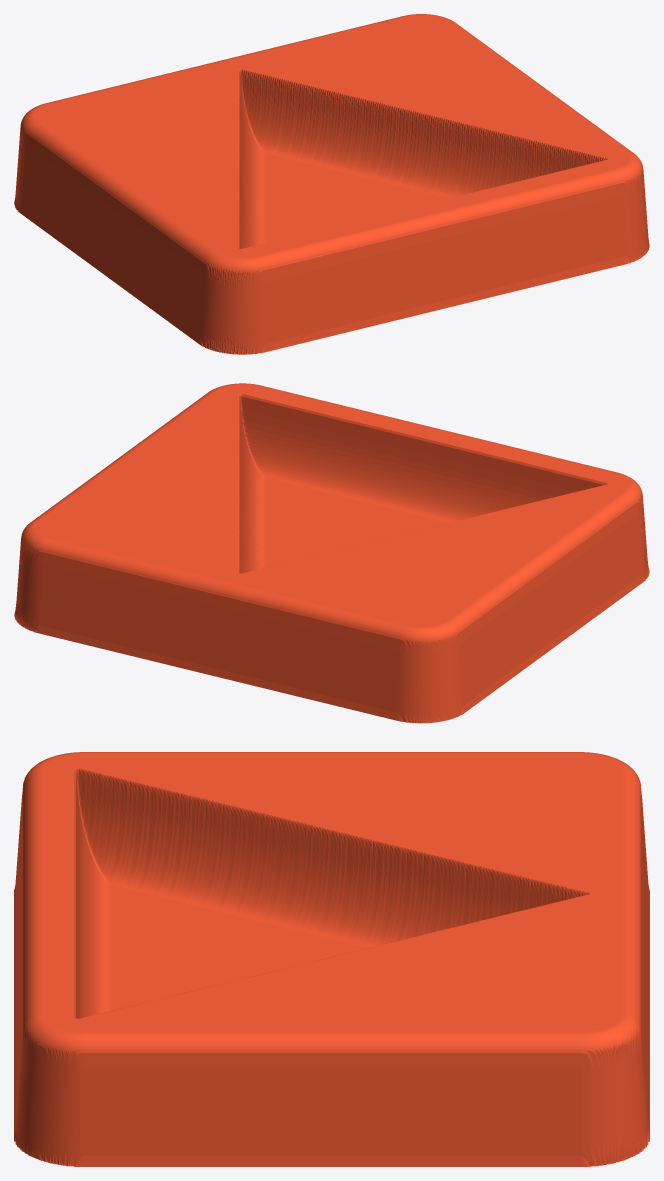
File: mold.glb
3 renders of one model, top to bottom at view 1: azimuth 30°, elevation 25°; view 2: azimuth 150°, elevation 25°; view 3: azimuth 270°, elevation 25°, orthographic. The views are drawn at different scales.
Visible parts, largest first — view 1: geometry_0; view 2: geometry_0; view 3: geometry_0.
Boxes of the visible parts, left/top/right/bottom form: geometry_0: left=14, top=14, right=649, bottom=354; geometry_0: left=14, top=383, right=649, bottom=723; geometry_0: left=14, top=752, right=649, bottom=1166.
Bounding box in the file's own units: 0.0924 × 0.0175 × 0.0822.
